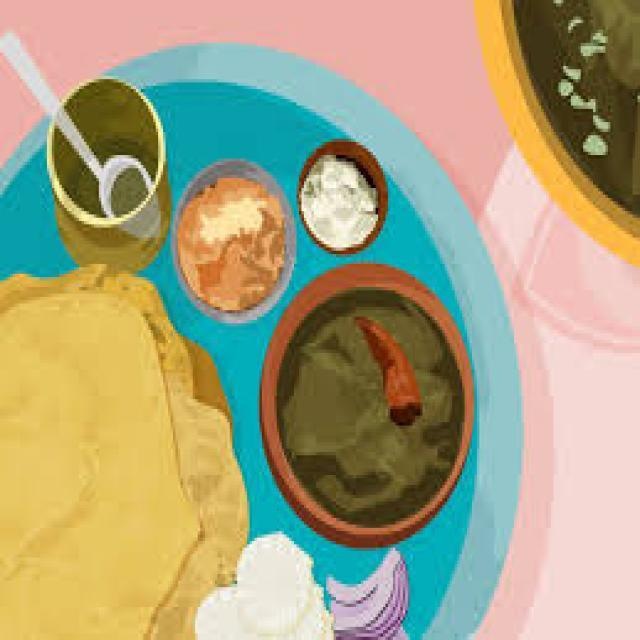rice: (190, 526, 339, 640)
sambar-rasam: (274, 281, 452, 534)
sweet: (271, 282, 461, 526), (292, 147, 392, 252)
veg-fry: (170, 168, 291, 316)
